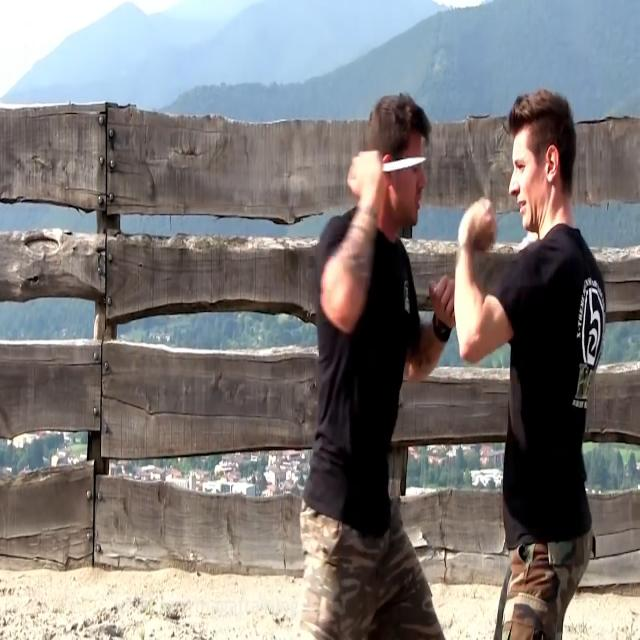knife: (383, 156, 429, 183)
